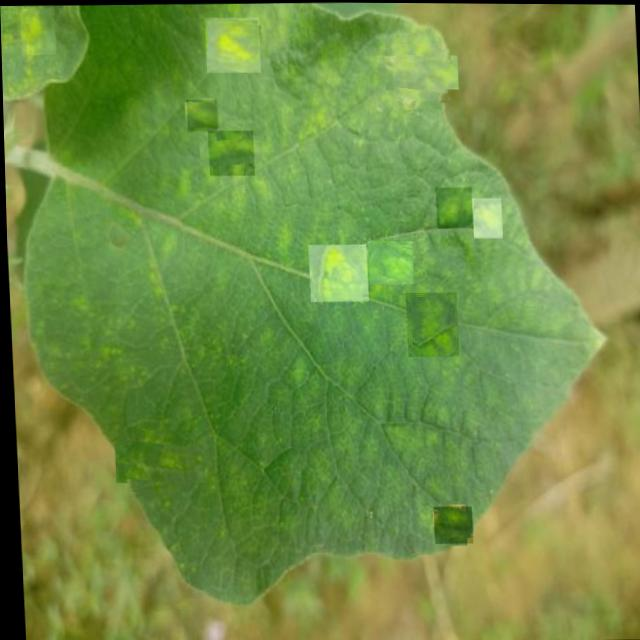leaf_spot: (121, 428, 192, 498), (305, 243, 365, 302), (402, 291, 456, 356), (390, 42, 449, 100), (203, 16, 259, 72), (205, 129, 253, 175), (365, 240, 411, 284), (19, 8, 55, 55), (433, 186, 471, 228), (429, 505, 469, 543), (469, 196, 500, 237), (184, 99, 216, 131)
